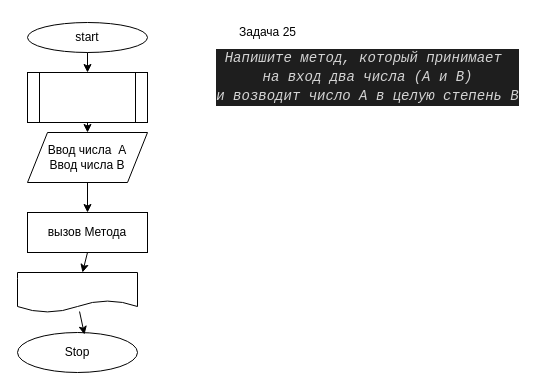
The diagram is 536 pixels wide and 390 high, and some of its shapes have lost their labels. Here are the shapes that lost their labels. From the top down, the centre of each, then its label:
At pixel 87 97: "Метод возведения в степень".
At pixel 77 292: "Печать результата".
